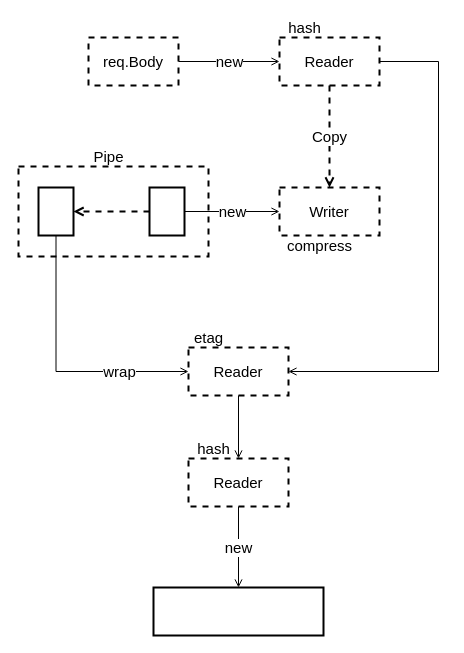
Image size: 464x653. Some labels were removed from this diagram. The shapes that lost their labels are listed below. From the top down, each one's centre as x and y in pixels, then its label:
pixel 55 211: pr
pixel 166 211: pw
pixel 238 611: PutObjReader
